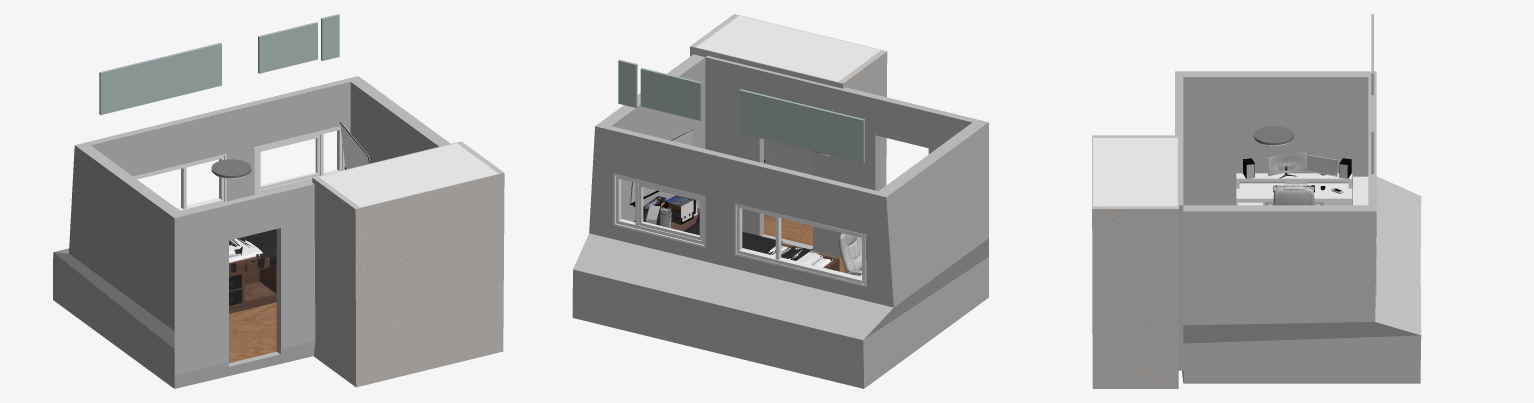
File: Kamer_Hernandez.glb
The picture shows the model from 3 angles, left to right: view 1: azimuth 30°, elevation 25°; view 2: azimuth 150°, elevation 25°; view 3: azimuth 270°, elevation 25°; orthographic projection. The views are drawn at different scales.
Visible parts, largest first — view 1: Cube.003, Cube.006, Cube.007, Cube.084, Cube.082, Plane, Cube.083, Cube.025, tv, Cylinder, Cube.022, Cube.024; view 2: Cube.003, Cube.007, Cube.084, Cube.006, Cube.082, Plane, Cube.073, Cube.083, seat.back, Cube.021; view 3: Cube.003, Cube.006, Cube.007, Cube.050, Cube.058, Monitor_MSI_Optix MAG341CQ, seat.back, Cylinder, Monitor.001, Cube.020.
Boxes of the visible parts, x1,y1,x2,y2 form: Cube.003: [53, 76, 450, 388]; Cube.006: [312, 141, 504, 387]; Cube.007: [319, 143, 498, 207]; Cube.084: [99, 43, 221, 114]; Cube.082: [258, 22, 317, 73]; Plane: [229, 229, 276, 272]; Cube.083: [321, 14, 339, 60]; Cube.025: [229, 281, 276, 313]; tv: [340, 123, 369, 169]; Cylinder: [211, 159, 251, 178]; Cube.022: [229, 255, 276, 276]; Cube.024: [229, 238, 262, 262]; Cube.003: [572, 54, 988, 388]; Cube.007: [696, 15, 880, 81]; Cube.084: [739, 89, 864, 163]; Cube.006: [690, 14, 887, 245]; Cube.082: [640, 68, 702, 120]; Plane: [684, 212, 813, 260]; Cube.073: [738, 248, 862, 283]; Cube.083: [618, 59, 637, 107]; seat.back: [838, 233, 861, 276]; Cube.021: [665, 195, 693, 224]; Cube.003: [1175, 71, 1421, 383]; Cube.006: [1092, 135, 1178, 388]; Cube.007: [1093, 138, 1177, 206]; Cube.050: [1236, 183, 1352, 202]; Cube.058: [1236, 173, 1352, 181]; Monitor_MSI_Optix MAG341CQ: [1268, 152, 1307, 178]; seat.back: [1273, 188, 1314, 205]; Cylinder: [1253, 126, 1293, 145]; Monitor.001: [1306, 155, 1337, 177]; Cube.020: [1353, 176, 1368, 205].
Size of what is drawn, in the model's own units: 4.29 by 3.34 by 5.65.
Materials: 150 (38 with a texture image).
